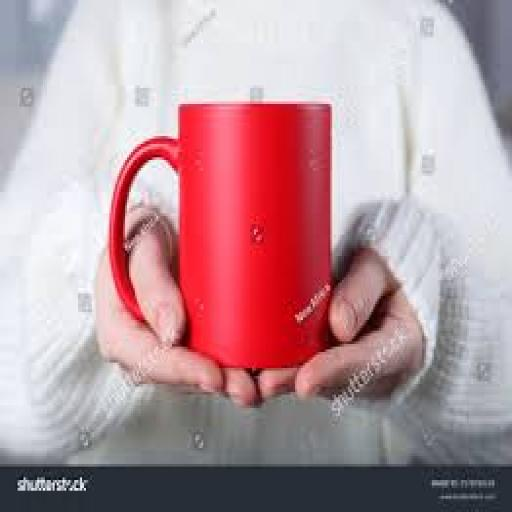red mug: (109, 104, 328, 371)
